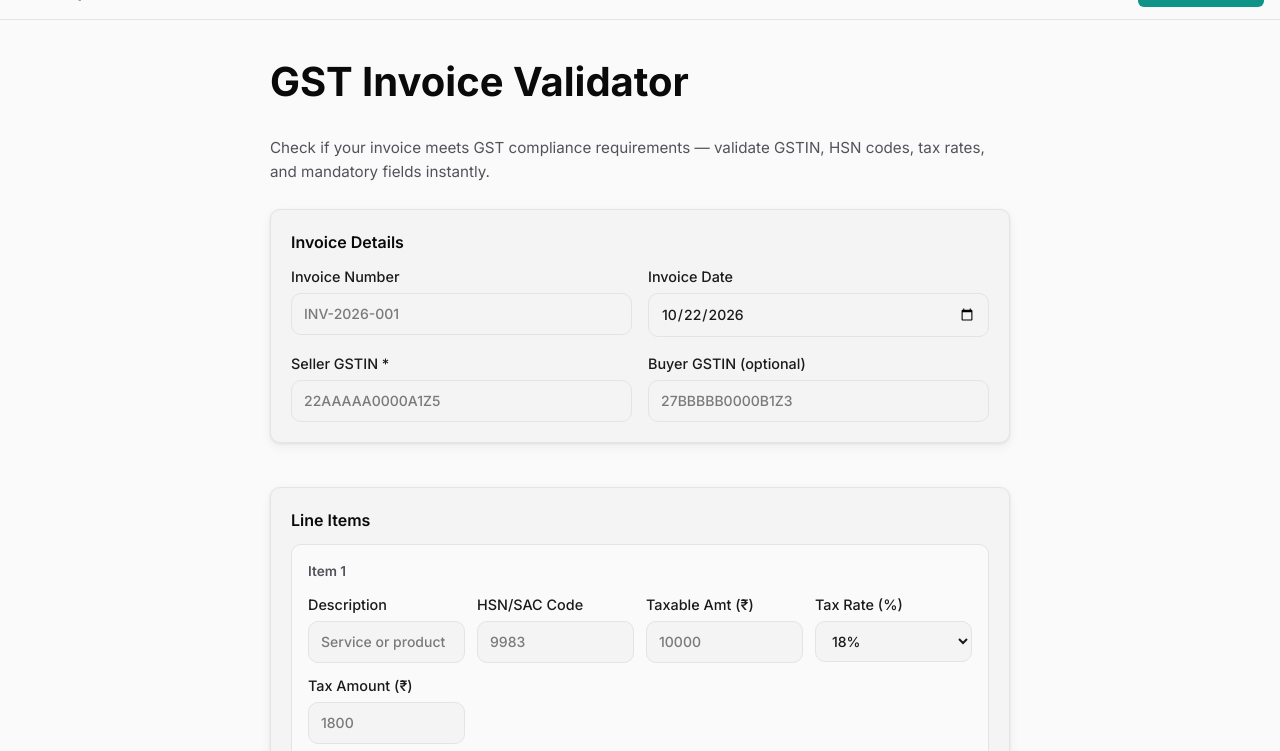
InvoiceValidatorPage › detects invalid GSTIN format
The width and height of the screenshot is (1280, 751).
Type "INVALID" into the field with placeholder "22AAAAA0000A1Z5".
click(462, 401); type("INVALID")  # box [291, 380, 632, 422]
(page scrolled)
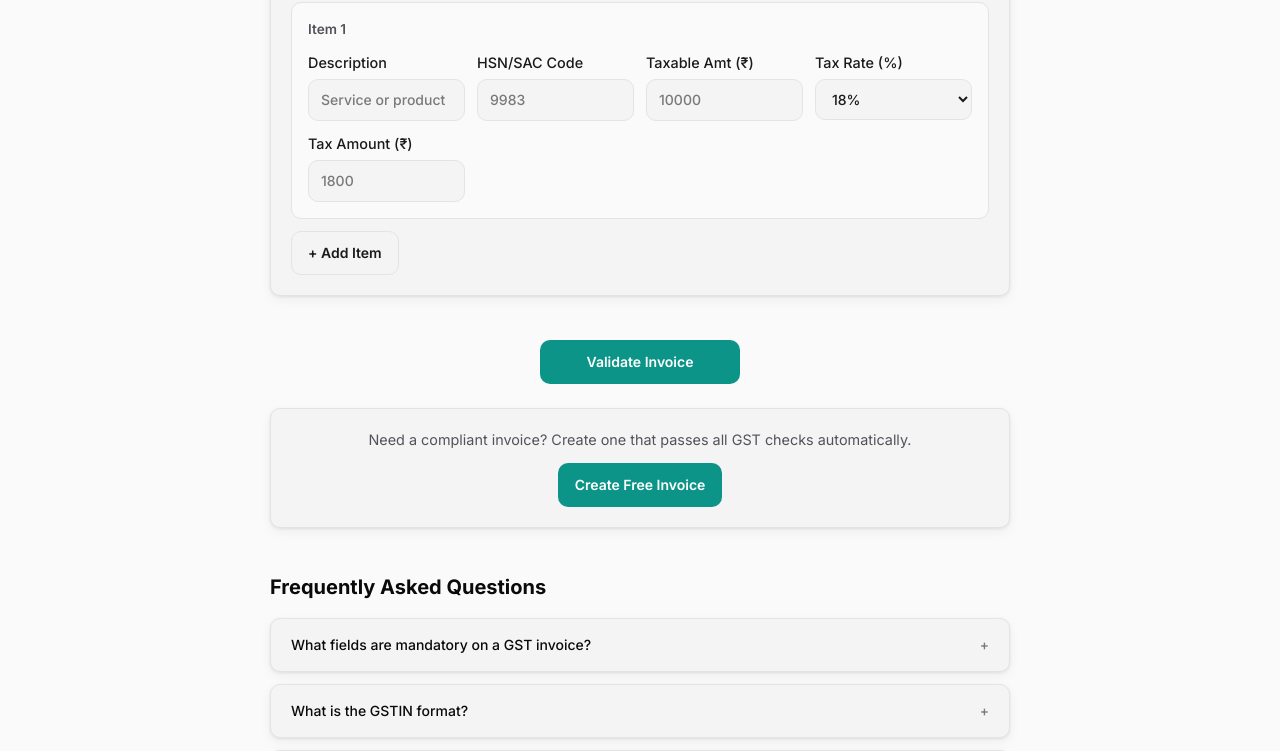
Click the button "Validate Invoice".
click(640, 362)  # box [540, 340, 740, 384]
(page scrolled)
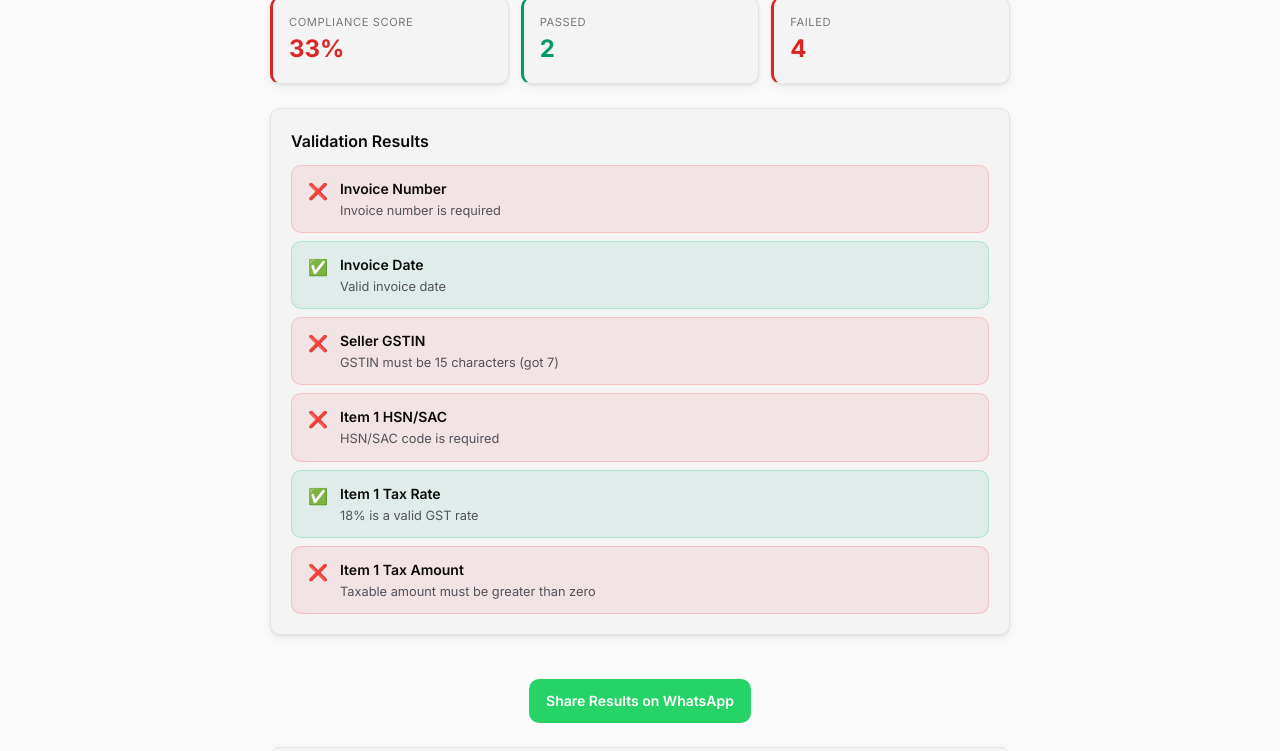
expect the text "GSTIN must be 15 characters (got 7)" is shown: met, box [340, 353, 559, 372]
